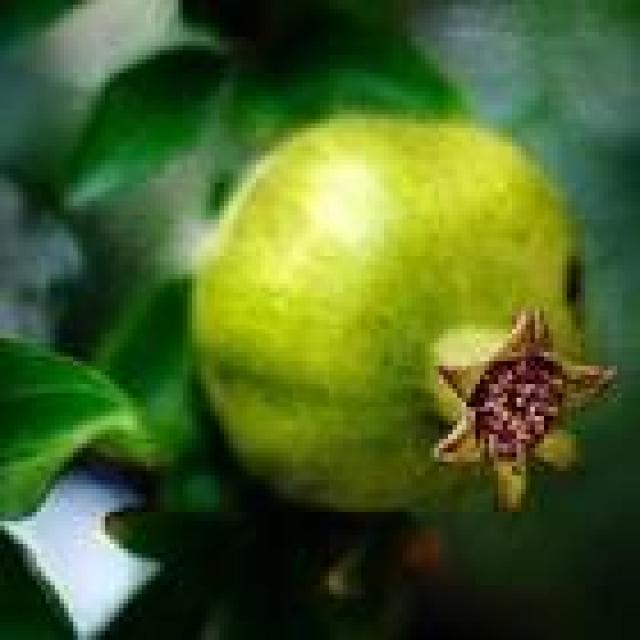Unripe: (186, 112, 615, 515)
